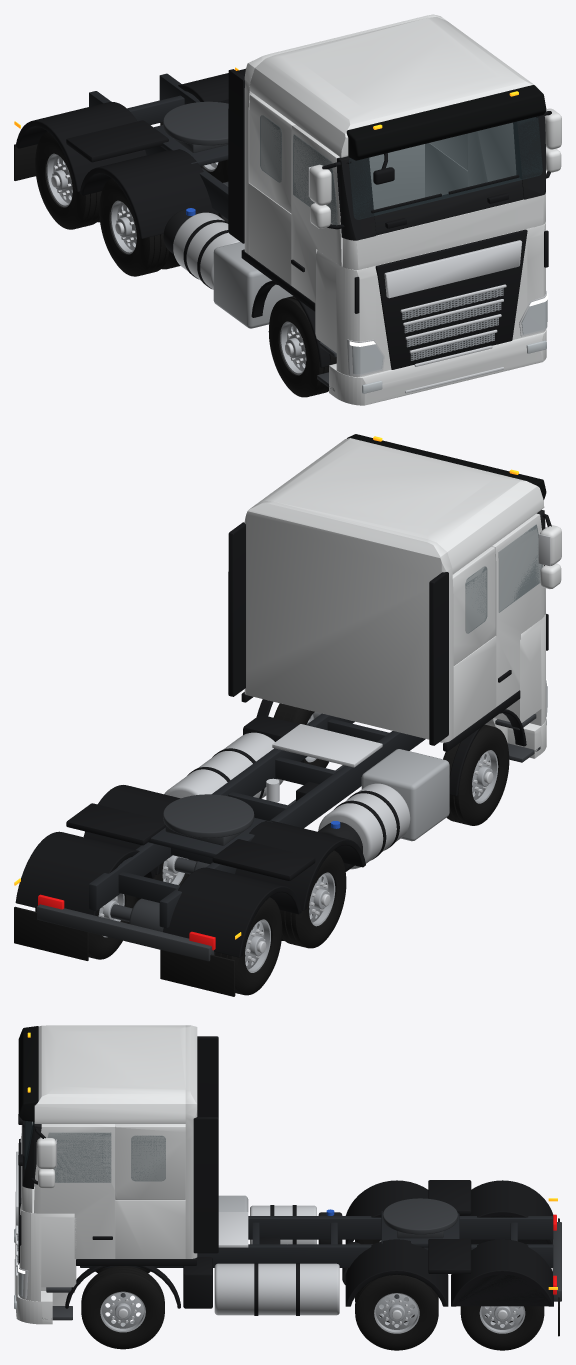
3 renders of one model, top to bottom at view 1: azimuth 30°, elevation 25°; view 2: azimuth 150°, elevation 25°; view 3: azimuth 270°, elevation 25°, orthographic. The views are drawn at different scales.
Parts seen in each view (by area): view 1: cab_roof, windshield, grille_frame, cab_sun_visor, mudguard_rear_R_1, cab_hood, bumper_front, cab_door_R, cab_corner_panel_R, cab_rear_panel, cab_side_panel_R, mudguard_rear_R_2 (+40 smaller); view 2: cab_rear_panel, cab_roof, mudguard_rear_R_2, cab_door_R, mudguard_rear_L_2, dpf_scr, chassis_rail_R, cab_side_panel_R, chassis_rail_L, mudguard_rear_R_1, fuel_tank_R, cab_side_deflector_R (+33 smaller); view 3: cab_roof, cab_door_L, fuel_tank_L, mudguard_rear_L_2, cab_side_panel_L, chassis_rail_R, cab_corner_panel_L, tire_F_L, cab_side_lower_L, tire_D1_L_out, cab_side_deflector_L, mudguard_rear_L_1 (+26 smaller).
Boxes of the visible parts, x1,y1,x2,y2 form: cab_roof: (249, 17, 538, 157); windshield: (349, 117, 542, 219); grille_frame: (375, 229, 527, 369); cab_sun_visor: (346, 85, 546, 160); mudguard_rear_R_1: (79, 149, 218, 238); cab_hood: (343, 192, 545, 269); bumper_front: (329, 329, 546, 405); cab_door_R: (291, 124, 342, 303); cab_corner_panel_R: (315, 250, 375, 377); cab_rear_panel: (244, 14, 446, 254); cab_side_panel_R: (249, 94, 295, 213); mudguard_rear_R_2: (15, 101, 146, 191); cab_rear_panel: (244, 501, 453, 742); cab_roof: (255, 438, 544, 574); mudguard_rear_R_2: (163, 867, 301, 957); cab_door_R: (491, 513, 544, 706); mudguard_rear_L_2: (15, 831, 155, 915); dpf_scr: (361, 749, 449, 841); chassis_rail_R: (159, 731, 425, 928); cab_side_panel_R: (452, 546, 495, 665); chassis_rail_L: (89, 713, 354, 910); mudguard_rear_R_1: (235, 820, 365, 910); fuel_tank_R: (318, 783, 410, 869); cab_side_deflector_R: (429, 572, 448, 745); cab_roof: (34, 1025, 185, 1123); cab_door_L: (34, 1124, 115, 1258); fuel_tank_L: (214, 1263, 339, 1315); mudguard_rear_L_2: (451, 1239, 553, 1306); cab_side_panel_L: (115, 1124, 185, 1199); chassis_rail_R: (248, 1216, 553, 1239); cab_corner_panel_L: (20, 1203, 76, 1301); tire_F_L: (81, 1266, 164, 1349); cab_side_lower_L: (115, 1200, 185, 1258); tire_D1_L_out: (355, 1275, 438, 1350); cab_side_deflector_L: (193, 1117, 218, 1253); mudguard_rear_L_1: (345, 1239, 448, 1306).
Size of the model in its own units: 2.98 by 3.58 by 7.01.
19 materials, 1 textured.
